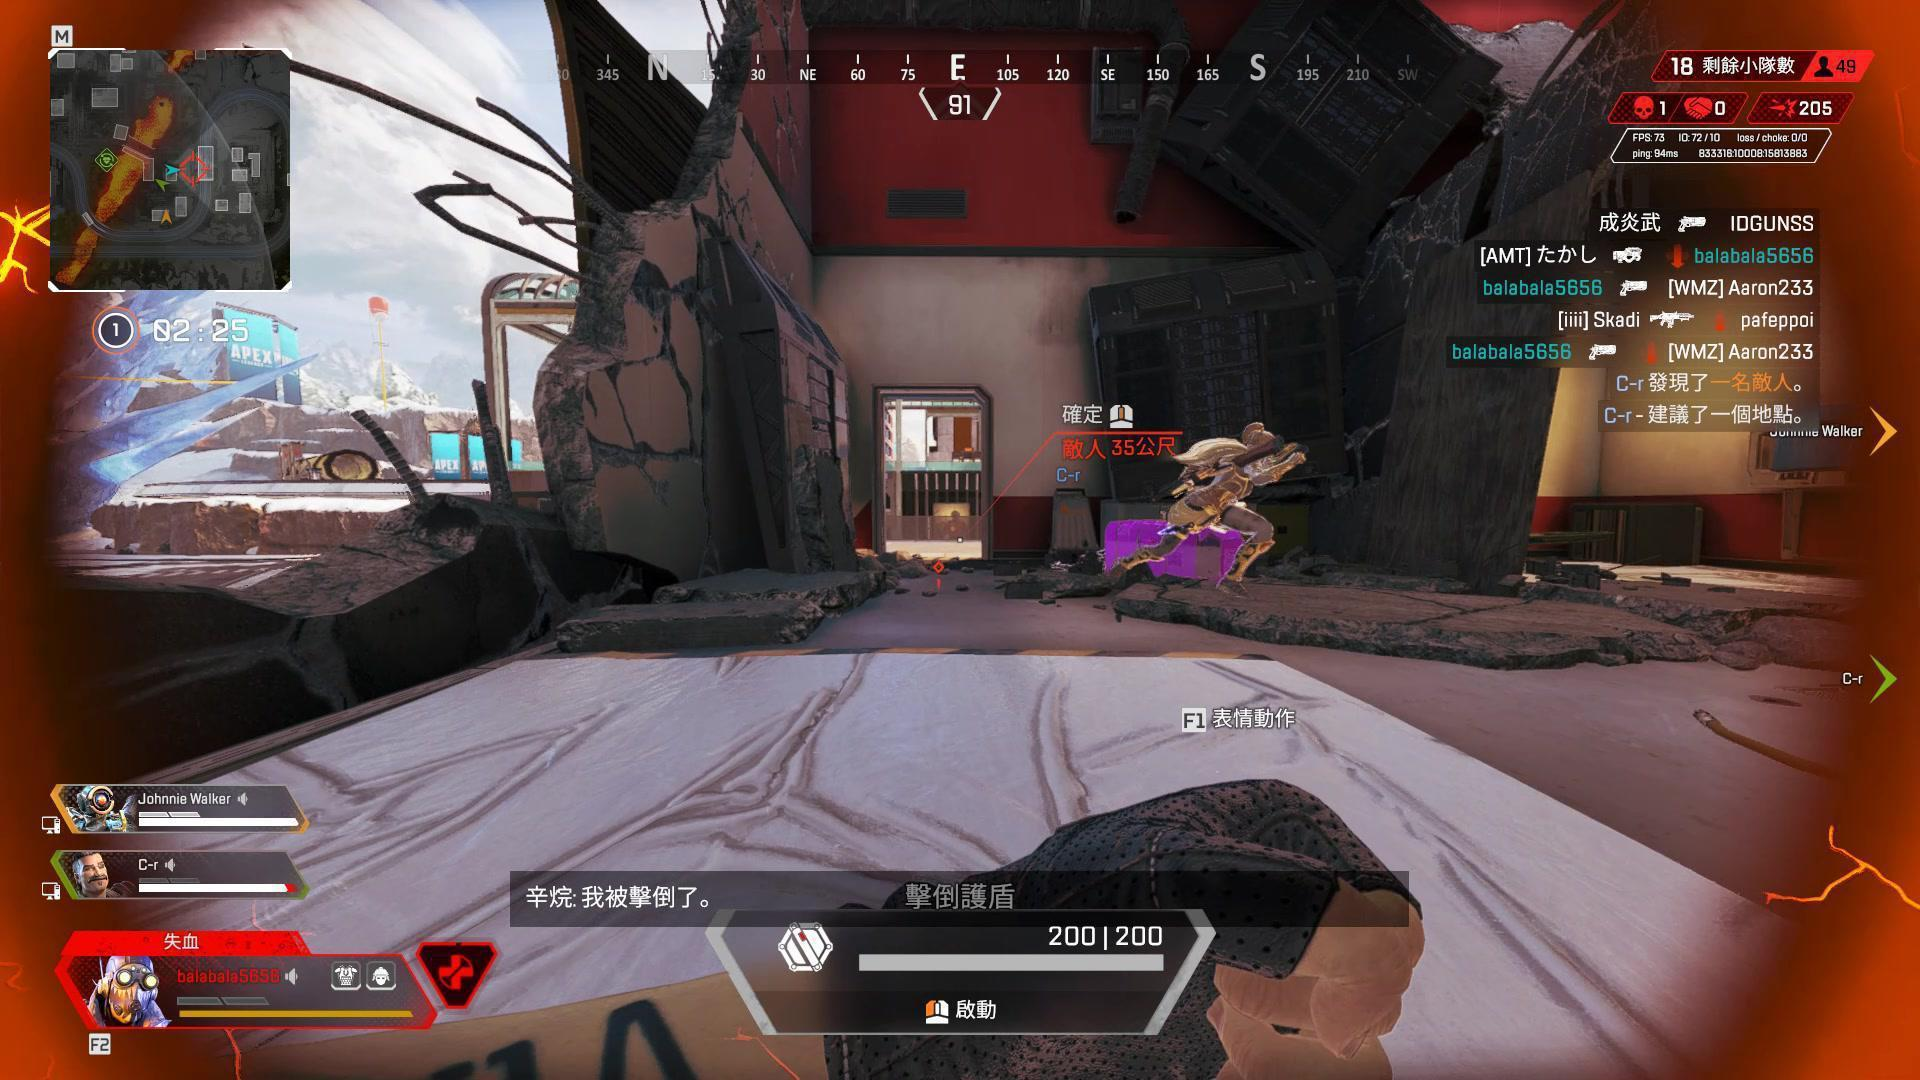avatar: (1160, 419, 1307, 603)
